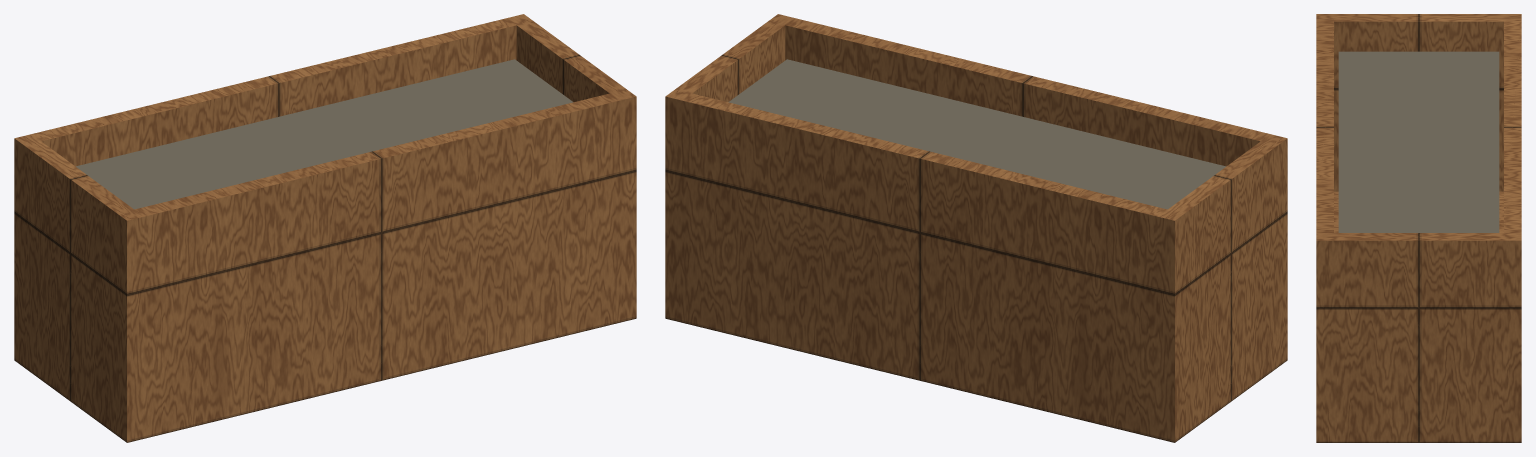
The model's file is Viraglada.obj.
3 views of the same model, side by side, from view 1: azimuth 30°, elevation 25°; view 2: azimuth 150°, elevation 25°; view 3: azimuth 270°, elevation 25° (orthographic). The views are drawn at different scales.
Bounding box in the file's own units: 1.2 × 0.5 × 0.46.
2 materials, 1 textured.
